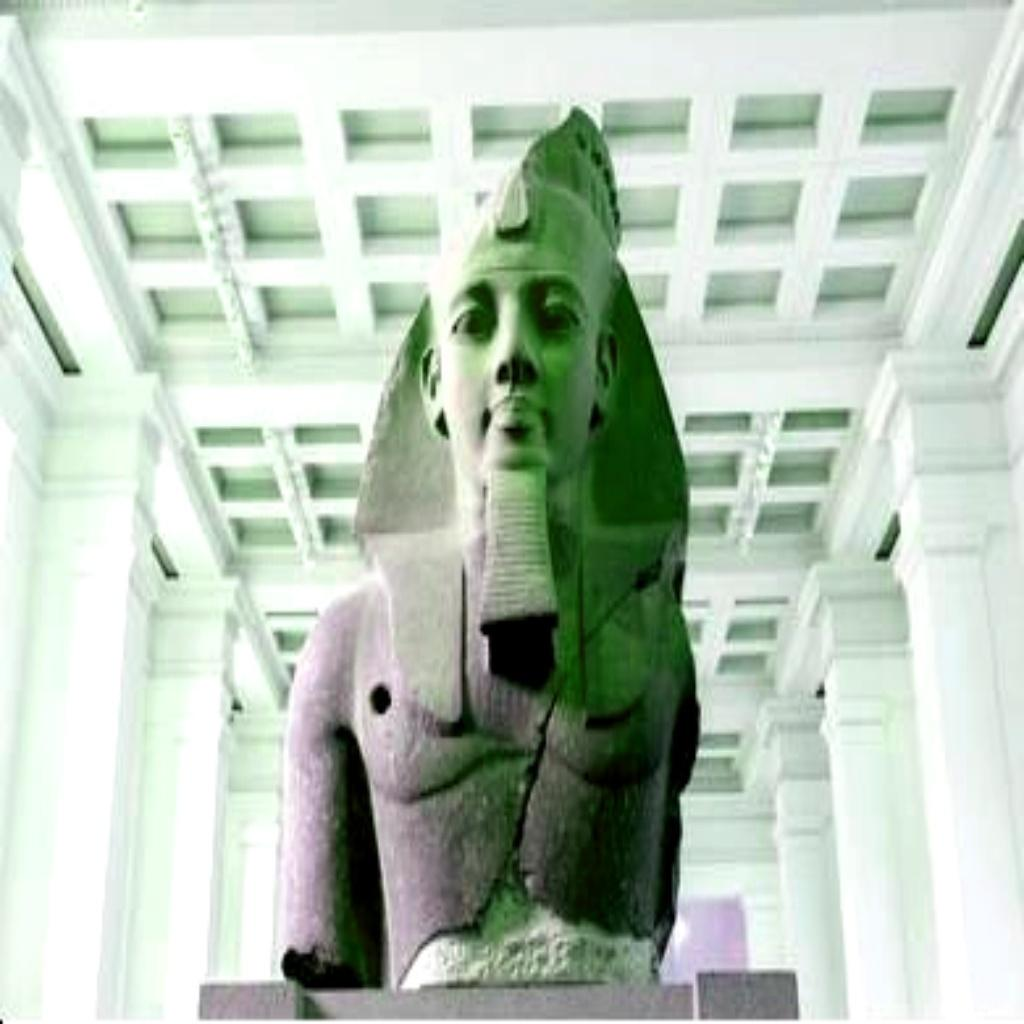bust of Ramesses II: (276, 102, 704, 989)
